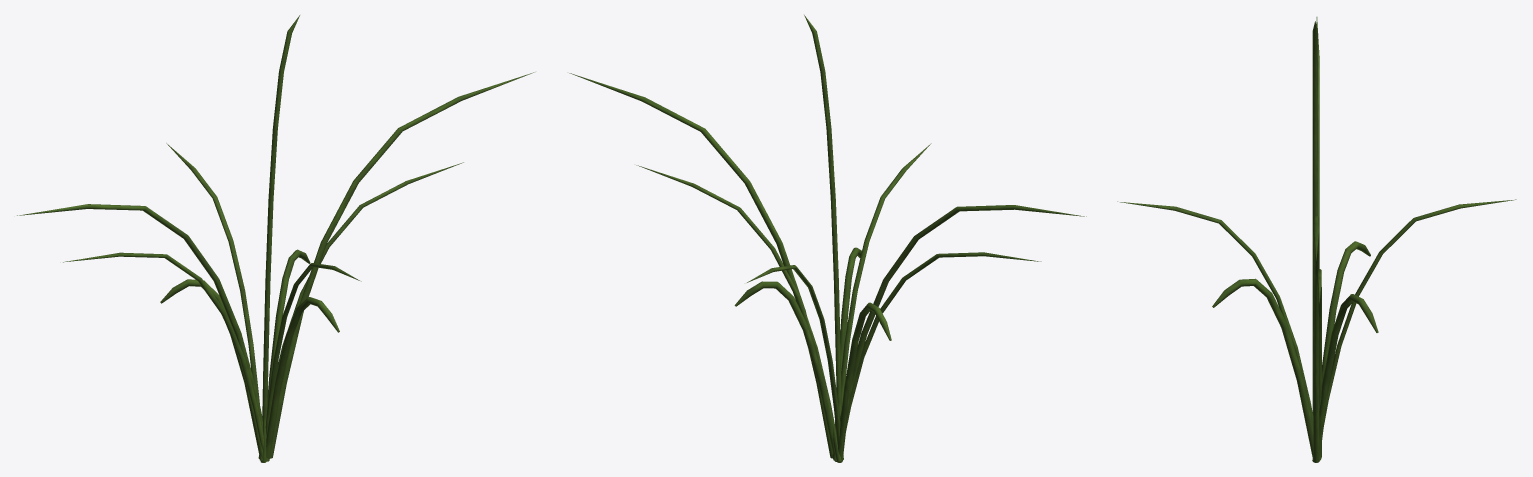
The model's file is Grass2.fbx.
3 renders of one model, left to right at view 1: azimuth 30°, elevation 25°; view 2: azimuth 150°, elevation 25°; view 3: azimuth 270°, elevation 25°, orthographic. The views are drawn at different scales.
Parts seen in each view (by area): view 1: Line007; view 2: Line007; view 3: Line007.
Part boxes in pixels (x1,y1,x2,y2): Line007: (17,15,534,462); Line007: (569,15,1086,462); Line007: (1117,17,1516,462).
Bounding box in the file's own units: 72.65 × 58.29 × 46.31.
1 material, 1 textured.
